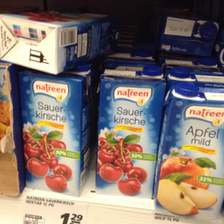juice: (95, 66, 167, 200), (154, 84, 224, 219), (19, 71, 93, 197), (1, 11, 123, 76)
